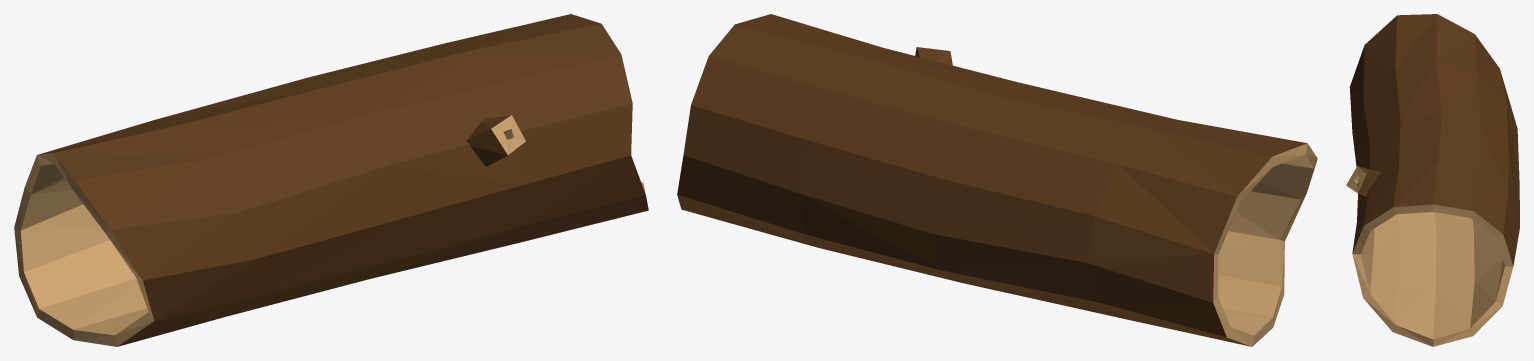
Rendered from log.glb.
The picture shows the model from 3 angles, left to right: view 1: azimuth 30°, elevation 25°; view 2: azimuth 150°, elevation 25°; view 3: azimuth 270°, elevation 25°; orthographic projection. The views are drawn at different scales.
Parts seen in each view (by area): view 1: Low Poly Log; view 2: Low Poly Log; view 3: Low Poly Log.
Part boxes in pixels (x1,y1,x2,y2): Low Poly Log: [14, 14, 648, 346]; Low Poly Log: [677, 14, 1317, 346]; Low Poly Log: [1346, 14, 1519, 346].
Size of the model in its own units: 2.43 by 0.7117 by 0.8637.
